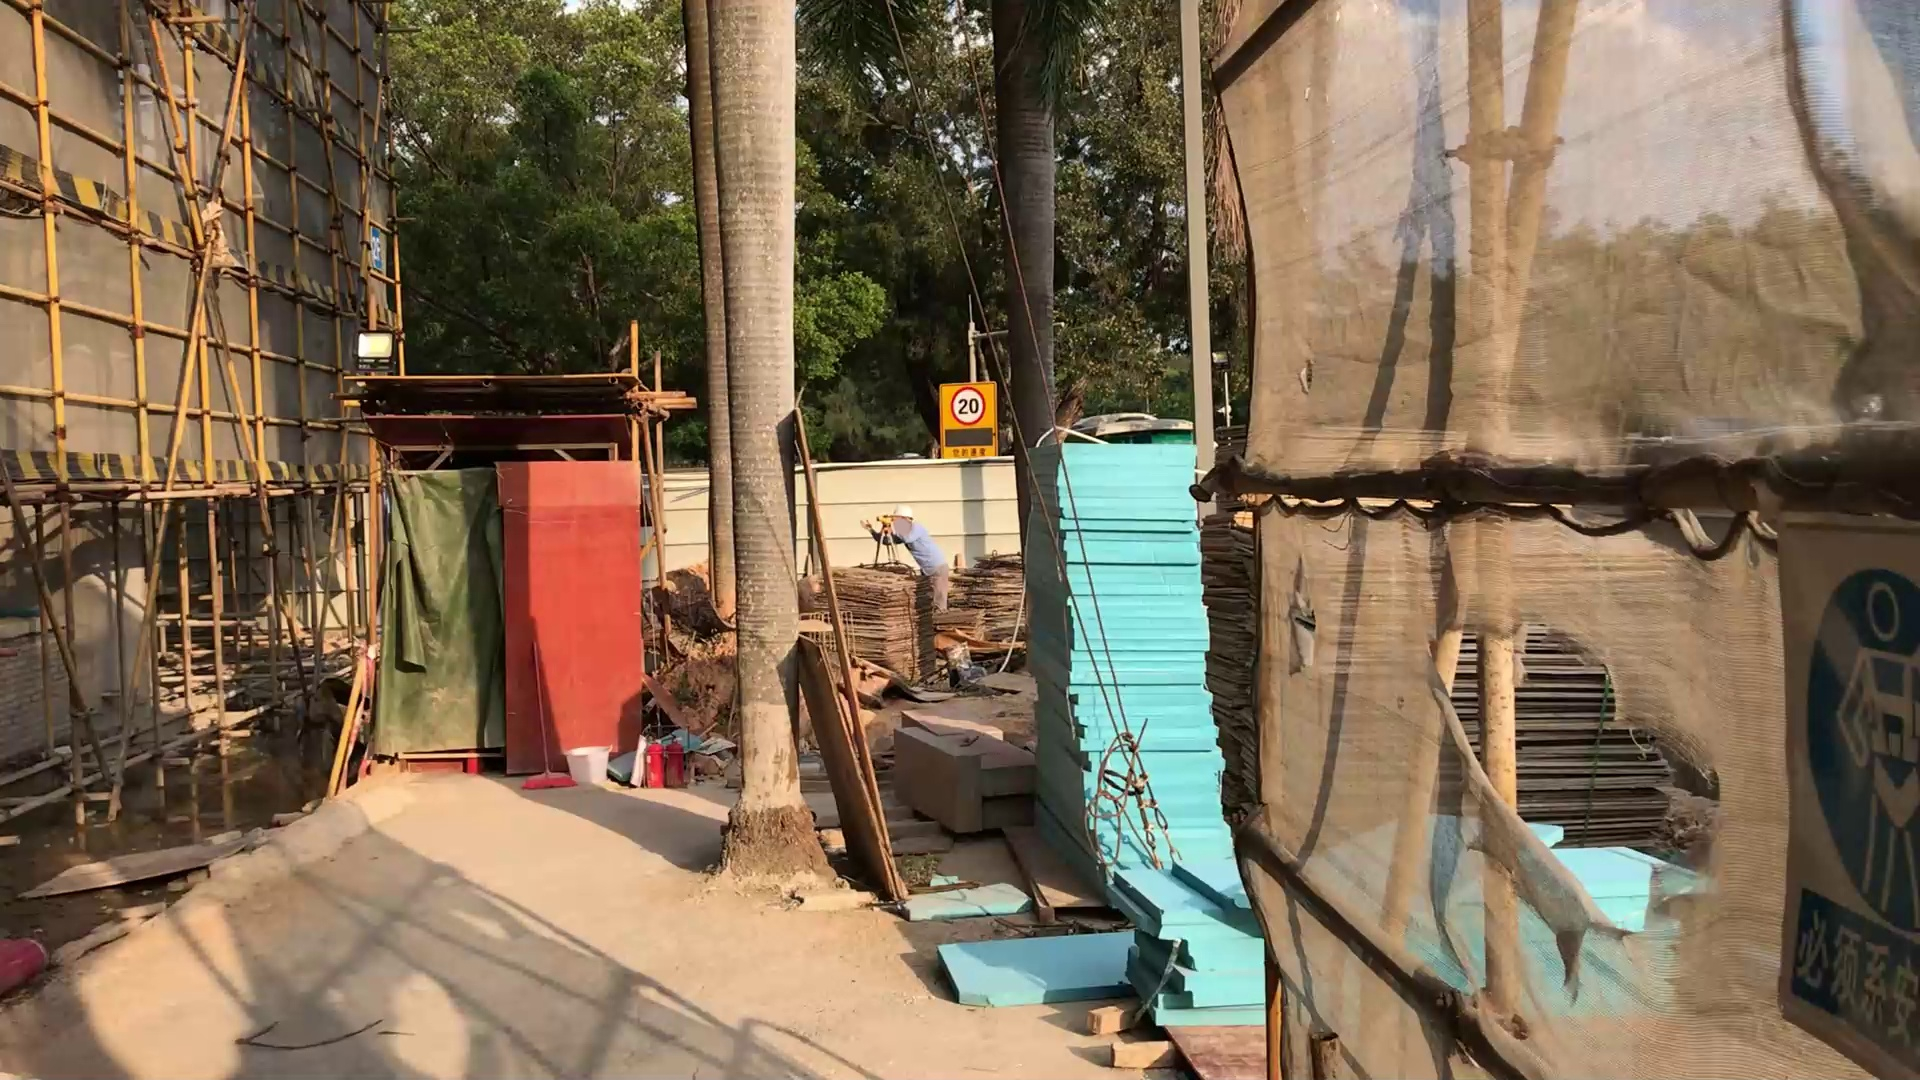board: (1201, 409, 1679, 855)
helmet: (884, 502, 916, 524)
person: (858, 502, 954, 612)
slogan: (1774, 529, 1920, 1080), (937, 378, 999, 466)
